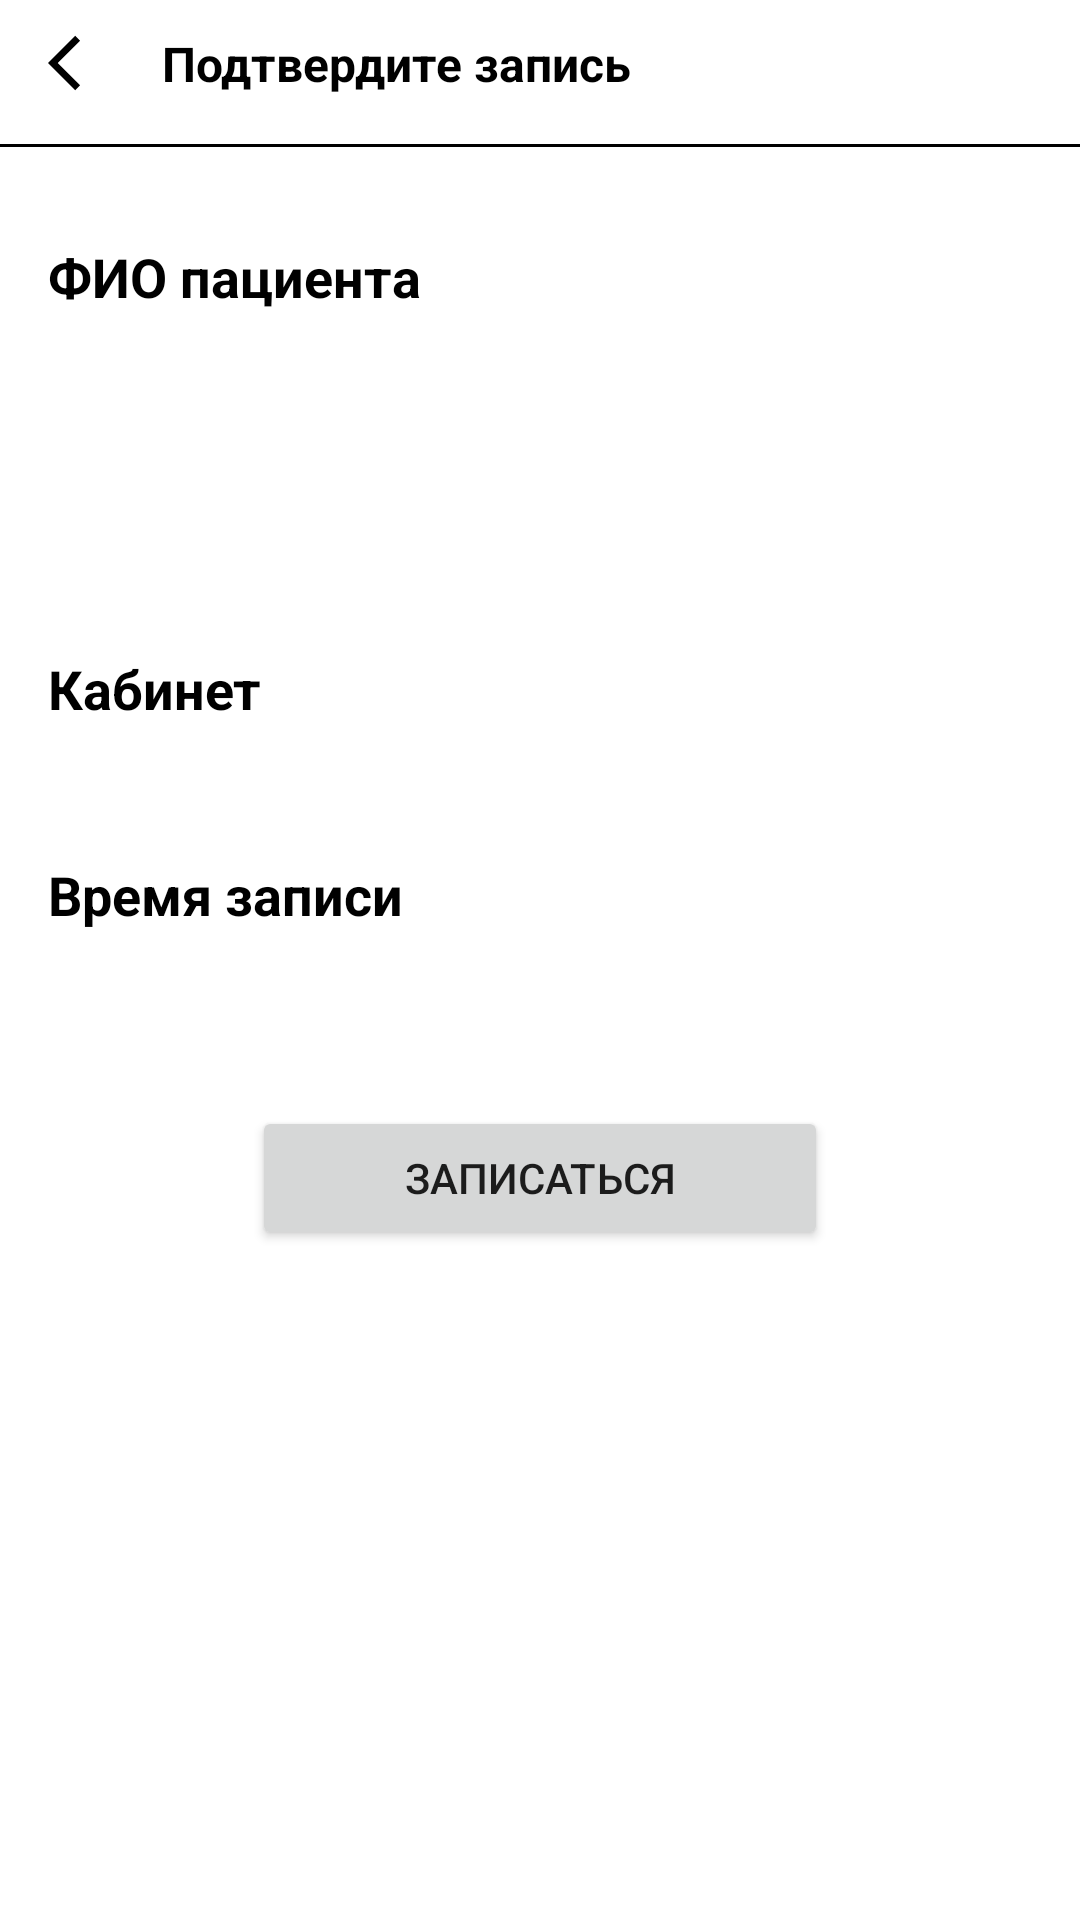

Screen size 1080 x 1920. Icon name, then its box in pixels as bbox(x1, y1, x2, y2):
back arrow: bbox(48, 36, 80, 90)
